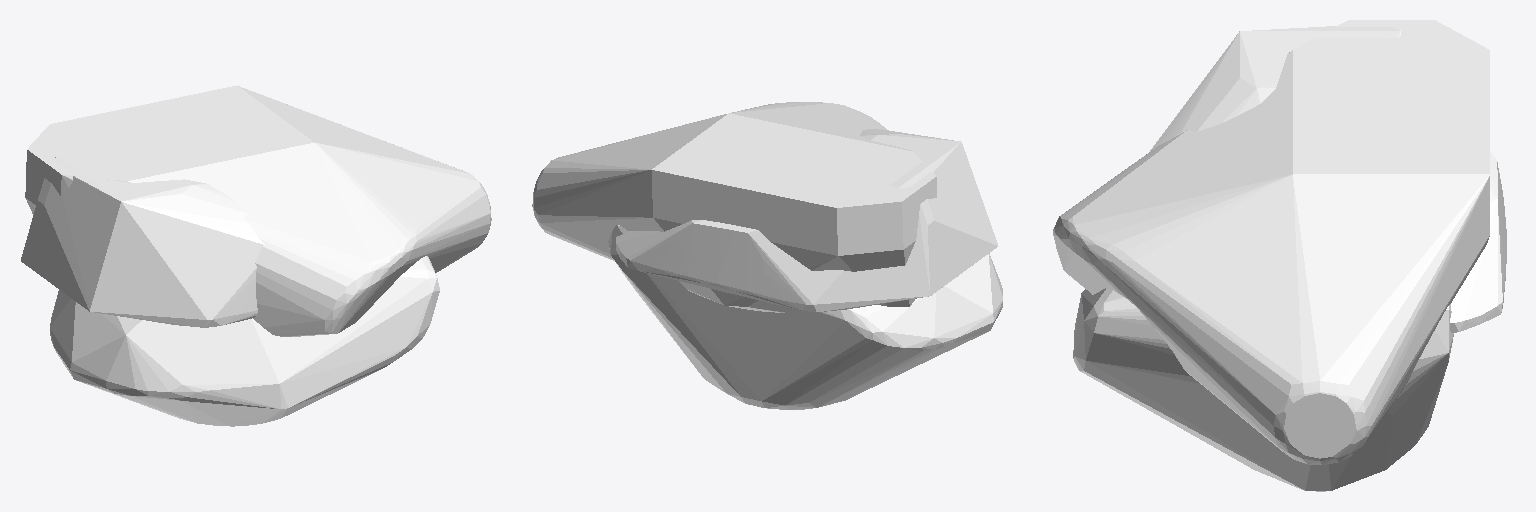
robot.urdf — kuka_kr300r2500ultra:
<?xml version="1.0" ?>
<!-- =================================================================================== -->
<!-- |    This document was autogenerated by xacro from kr300r2500ultra.xacro            | -->
<!-- |    EDITING THIS FILE BY HAND IS NOT RECOMMENDED                                 | -->
<!-- =================================================================================== -->
<!--Generates a urdf from the macro in kr300r2500ultra_macro.xacro -->
<robot name="kuka_kr300r2500ultra">
  <!-- LINKS -->
  <!-- base link -->
  <link name="base_link">
    <inertial>
      <origin rpy="0 0 0" xyz="0 0 0"/>
      <mass value="2"/>
      <inertia ixx="0.01" ixy="0" ixz="0" iyy="0.01" iyz="0" izz="0.01"/>
    </inertial>
    <visual>
      <origin rpy="0 0 0" xyz="0 0 0"/>
      <geometry>
        <mesh filename="package://kuka_kr300_support/meshes/kr300r2500ultra/visual/base_link.stl"/>
      </geometry>
      <material name="">
        <color rgba="1.0 1.0 1.0 1.0"/>
      </material>
    </visual>
    <collision>
      <origin rpy="0 0 0" xyz="0 0 0"/>
      <geometry>
        <mesh filename="package://kuka_kr300_support/meshes/kr300r2500ultra/collision/base_link.stl" scale="0.001 0.001 0.001"/>
      </geometry>
    </collision>
  </link>
  <!-- link 1 (A1) -->
  <link name="link_1">
    <inertial>
      <origin rpy="0 0 0" xyz="0 0 0"/>
      <mass value="2"/>
      <inertia ixx="0.01" ixy="0" ixz="0" iyy="0.01" iyz="0" izz="0.01"/>
    </inertial>
    <visual>
      <origin rpy="0 0 0" xyz="0 0 0"/>
      <geometry>
        <mesh filename="package://kuka_kr300_support/meshes/kr300r2500ultra/visual/link_1.stl"/>
      </geometry>
      <material name="">
        <color rgba="1.0 1.0 1.0 1.0"/>
      </material>
    </visual>
    <collision>
      <origin rpy="0 0 0" xyz="0 0 0"/>
      <geometry>
        <mesh filename="package://kuka_kr300_support/meshes/kr300r2500ultra/collision/link_1.stl" scale="0.001 0.001 0.001"/>
      </geometry>
    </collision>
  </link>
  <!-- link 2 -->
  <link name="link_2">
    <inertial>
      <origin rpy="0 0 0" xyz="0 0 0"/>
      <mass value="2"/>
      <inertia ixx="0.01" ixy="0" ixz="0" iyy="0.01" iyz="0" izz="0.01"/>
    </inertial>
    <visual>
      <origin rpy="0 0 0" xyz="0 0 0"/>
      <geometry>
        <mesh filename="package://kuka_kr300_support/meshes/kr300r2500ultra/visual/link_2.stl"/>
      </geometry>
      <material name="">
        <color rgba="1.0 1.0 1.0 1.0"/>
      </material>
    </visual>
    <collision>
      <origin rpy="0 0 0" xyz="0 0 0"/>
      <geometry>
        <mesh filename="package://kuka_kr300_support/meshes/kr300r2500ultra/collision/link_2.stl" scale="0.001 0.001 0.001"/>
      </geometry>
    </collision>
  </link>
  <!-- link 3 -->
  <link name="link_3">
    <inertial>
      <origin rpy="0 0 0" xyz="0 0 0"/>
      <mass value="2"/>
      <inertia ixx="0.01" ixy="0" ixz="0" iyy="0.01" iyz="0" izz="0.01"/>
    </inertial>
    <visual>
      <origin rpy="0 0 0" xyz="0 0 0"/>
      <geometry>
        <mesh filename="package://kuka_kr300_support/meshes/kr300r2500ultra/visual/link_3.stl"/>
      </geometry>
      <material name="">
        <color rgba="1.0 1.0 1.0 1.0"/>
      </material>
    </visual>
    <collision>
      <origin rpy="0 0 0" xyz="0 0 0"/>
      <geometry>
        <mesh filename="package://kuka_kr300_support/meshes/kr300r2500ultra/collision/link_3.stl" scale="0.001 0.001 0.001"/>
      </geometry>
    </collision>
  </link>
  <!-- link 4 -->
  <link name="link_4">
    <inertial>
      <origin rpy="0 0 0" xyz="0 0 0"/>
      <mass value="2"/>
      <inertia ixx="0.01" ixy="0" ixz="0" iyy="0.01" iyz="0" izz="0.01"/>
    </inertial>
    <visual>
      <origin rpy="0 0 0" xyz="0 0 0"/>
      <geometry>
        <mesh filename="package://kuka_kr300_support/meshes/kr300r2500ultra/visual/link_4.stl"/>
      </geometry>
      <material name="">
        <color rgba="1.0 1.0 1.0 1.0"/>
      </material>
    </visual>
    <collision>
      <origin rpy="0 0 0" xyz="0 0 0"/>
      <geometry>
        <mesh filename="package://kuka_kr300_support/meshes/kr300r2500ultra/collision/link_4.stl" scale="0.001 0.001 0.001"/>
      </geometry>
    </collision>
  </link>
  <!-- link 5 -->
  <link name="link_5">
    <inertial>
      <origin rpy="0 0 0" xyz="0 0 0"/>
      <mass value="2"/>
      <inertia ixx="0.01" ixy="0" ixz="0" iyy="0.01" iyz="0" izz="0.01"/>
    </inertial>
    <visual>
      <origin rpy="0 0 0" xyz="0 0 0"/>
      <geometry>
        <mesh filename="package://kuka_kr300_support/meshes/kr300r2500ultra/visual/link_5.stl"/>
      </geometry>
      <material name="">
        <color rgba="1.0 1.0 1.0 1.0"/>
      </material>
    </visual>
    <collision>
      <origin rpy="0 0 0" xyz="0 0 0"/>
      <geometry>
        <mesh filename="package://kuka_kr300_support/meshes/kr300r2500ultra/collision/link_5.stl" scale="0.001 0.001 0.001"/>
      </geometry>
    </collision>
  </link>
  <!-- link 6 -->
  <link name="link_6">
    <inertial>
      <origin rpy="0 0 0" xyz="0 0 0"/>
      <mass value="2"/>
      <inertia ixx="0.01" ixy="0" ixz="0" iyy="0.01" iyz="0" izz="0.01"/>
    </inertial>
    <visual>
      <origin rpy="0 0 0" xyz="0 0 0"/>
      <geometry>
        <mesh filename="package://kuka_kr300_support/meshes/kr300r2500ultra/visual/link_6.stl"/>
      </geometry>
      <material name="">
        <color rgba="1.0 1.0 1.0 1.0"/>
      </material>
    </visual>
    <collision>
      <origin rpy="0 0 0" xyz="0 0 0"/>
      <geometry>
        <mesh filename="package://kuka_kr300_support/meshes/kr300r2500ultra/collision/link_6.stl" scale="0.001 0.001 0.001"/>
      </geometry>
    </collision>
  </link>
  <!-- tool 0 -->
  <!-- This frame corresponds to the $FLANGE coordinate system in KUKA KRC controllers. -->
  <link name="tool0"/>
  <!-- END LINKS -->
  <!-- JOINTS -->
  <!-- joint 1 (A1) -->
  <joint name="joint_a1" type="revolute">
    <origin rpy="0 0 0" xyz="0 0 0.675"/>
    <parent link="base_link"/>
    <child link="link_1"/>
    <axis xyz="0 0 -1"/>
    <limit effort="0" lower="-3.2288591161895095" upper="3.2288591161895095" velocity="2.722713633111154"/>
  </joint>
  <!-- joint 2 (A2) -->
  <joint name="joint_a2" type="revolute">
    <origin rpy="0 0 0" xyz="0.35 0 0"/>
    <parent link="link_1"/>
    <child link="link_2"/>
    <axis xyz="0 1 0"/>
    <limit effort="0" lower="-2.705260340591211" upper="0.6108652381980153" velocity="2.722713633111154"/>
  </joint>
  <!-- joint 3 (A3) -->
  <joint name="joint_a3" type="revolute">
    <origin rpy="0 0 0" xyz="1.150 0 0"/>
    <parent link="link_2"/>
    <child link="link_3"/>
    <axis xyz="0 1 0"/>
    <limit effort="0" lower="-2.2689280275926285" upper="2.6878070480712677" velocity="2.722713633111154"/>
  </joint>
  <!-- joint 4 (A4) -->
  <joint name="joint_a4" type="revolute">
    <origin rpy="0 0 0" xyz="1.0 0 -0.041"/>
    <parent link="link_3"/>
    <child link="link_4"/>
    <axis xyz="-1 0 0"/>
    <limit effort="0" lower="-6.1086523819801535" upper="6.1086523819801535" velocity="5.759586531581287"/>
  </joint>
  <!-- joint 5 (A5) -->
  <joint name="joint_a5" type="revolute">
    <origin rpy="0 0 0" xyz="0 0 0"/>
    <parent link="link_4"/>
    <child link="link_5"/>
    <axis xyz="0 1 0"/>
    <limit effort="0" lower="-2.2689280275926285" upper="2.2689280275926285" velocity="5.759586531581287"/>
  </joint>
  <!-- joint 6 (A6) -->
  <joint name="joint_a6" type="revolute">
    <origin rpy="0 0 0" xyz="0 0 0"/>
    <parent link="link_5"/>
    <child link="link_6"/>
    <axis xyz="-1 0 0"/>
    <limit effort="0" lower="-6.1086523819801535" upper="6.1086523819801535" velocity="10.733774899765127"/>
  </joint>
  <!-- tool frame - fixed frame -->
  <joint name="joint_a6-tool0" type="fixed">
    <parent link="link_6"/>
    <child link="tool0"/>
    <origin rpy="0 1.5707963267948966 0" xyz="0.240 0 0"/>
  </joint>
  <!-- END JOINTS -->
  <!-- ROS base_link to KUKA $ROBROOT coordinate system transform -->
  <link name="base"/>
  <joint name="base_link-base" type="fixed">
    <origin rpy="0 0 0" xyz="0 0 0"/>
    <parent link="base_link"/>
    <child link="base"/>
  </joint>
</robot>

--- Render facts (derived) ---
The picture shows the robot from 3 angles, left to right: view 1: azimuth 30°, elevation 25°; view 2: azimuth 150°, elevation 25°; view 3: azimuth 270°, elevation 25°; orthographic projection.
Robot: kuka_kr300r2500ultra — 9 links, 8 joints (6 revolute, 2 fixed); root link base_link; default pose: every joint at zero.
Links seen in each view (by area): view 1: link_3, link_1, base_link; view 2: link_3, link_1, base_link; view 3: link_3, link_1, base_link.
Boxes of the visible links, left/top/right/bottom form: link_3: left=25, top=85, right=491, bottom=336; link_1: left=50, top=256, right=439, bottom=426; base_link: left=21, top=155, right=264, bottom=327; link_3: left=532, top=102, right=936, bottom=312; link_1: left=608, top=225, right=1002, bottom=409; base_link: left=616, top=129, right=997, bottom=311; link_3: left=1053, top=20, right=1489, bottom=464; link_1: left=1073, top=288, right=1453, bottom=491; base_link: left=1150, top=26, right=1506, bottom=332.
Bounding box of the posed robot: 1398 × 1008 × 788 m (x, y, z).
Meshes: 7 distinct files referenced, 5 mesh visuals loaded (5 binary STL); not drawn: 2 (reference not matched to a file when rendering).